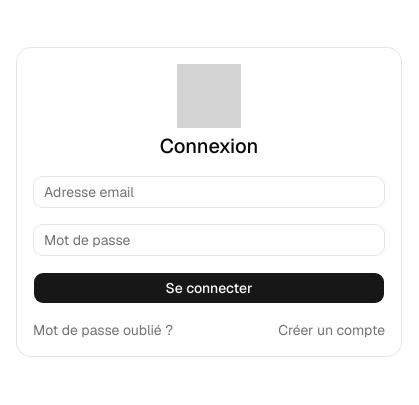
Test: LoginPage › handles signIn error result gracefully
Step 1. Type "user@test.com" into the field with placeholder "Adresse email" → (209, 192), box 33,176 -> 385,208
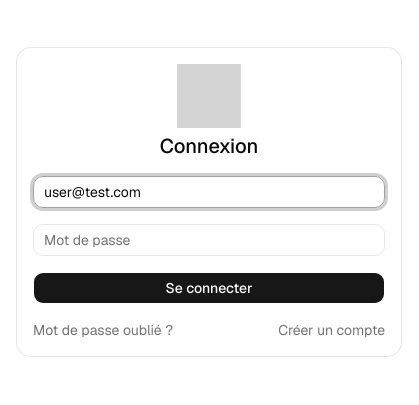
Step 2. Type "wrongpass" into the password field with placeholder "Mot de passe" → (209, 240), box 33,224 -> 385,256
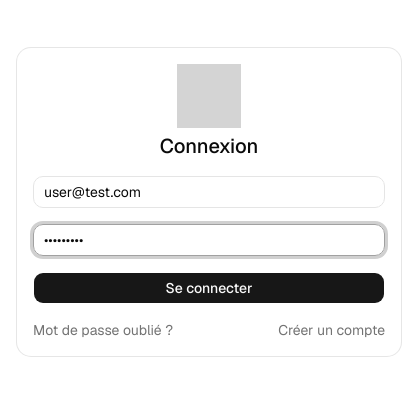
Step 3. Click the button "Se connecter" → (209, 288), box 33,272 -> 385,304
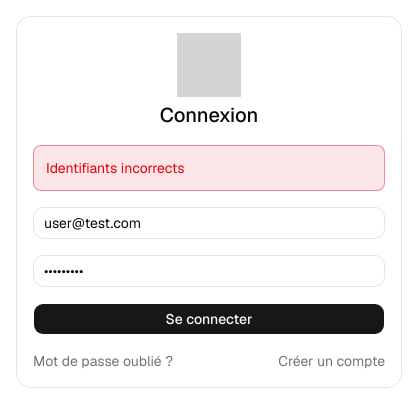
expect the button "Se connecter" is enabled: met, box 33,303 -> 385,335
expect the text "Identifiants incorrects" is shown: met, box 33,145 -> 385,191
